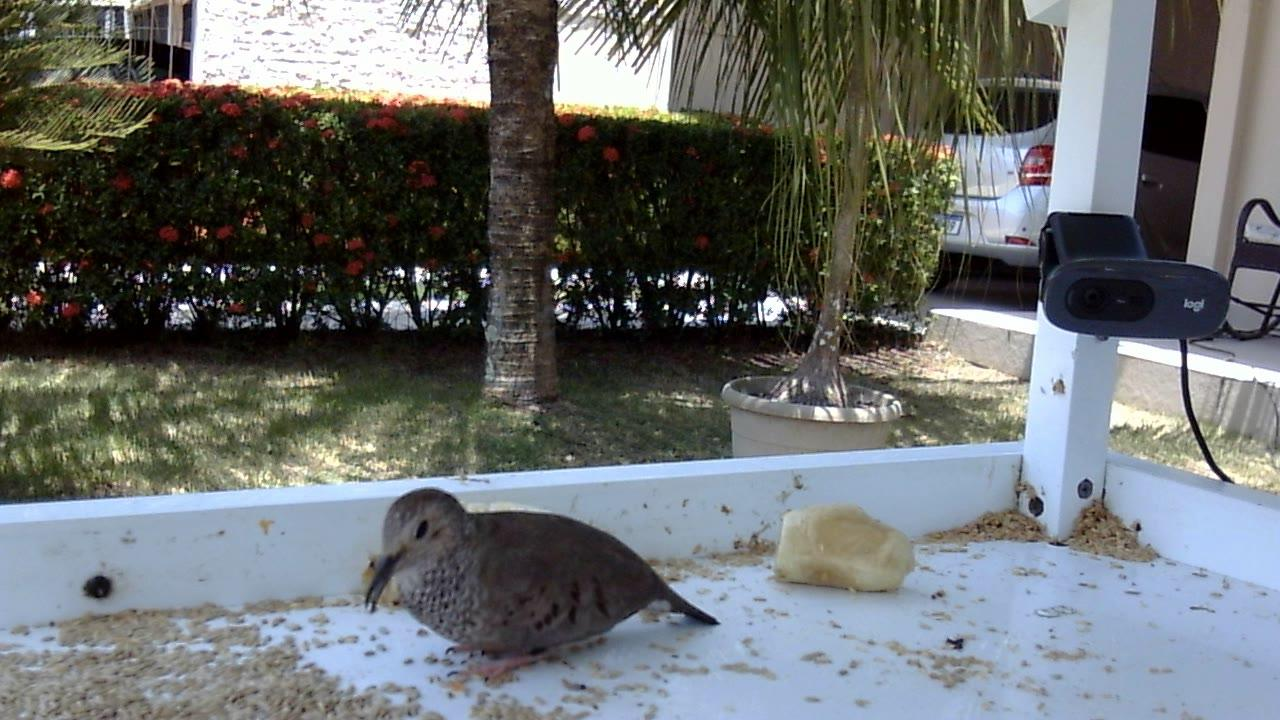rolinha: (362, 485, 724, 692)
